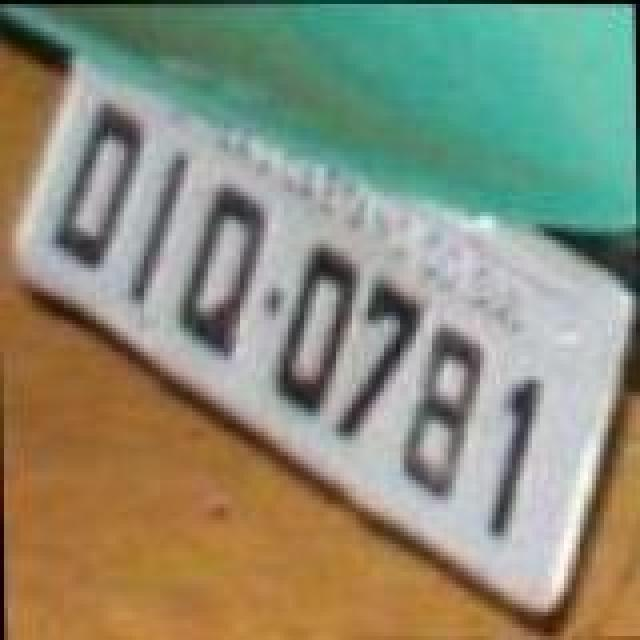1: (476, 374, 552, 534), (124, 148, 192, 304)
7: (334, 274, 434, 438)
8: (400, 334, 500, 498)
D: (52, 102, 152, 274)
O: (272, 242, 368, 418)
Q: (174, 182, 274, 362)
